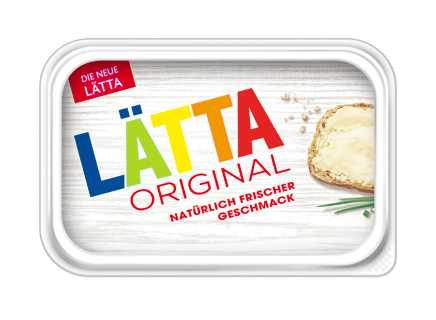laetta: (40, 38, 398, 277)
